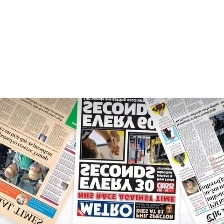news_paper: (78, 96, 179, 223), (141, 95, 224, 224), (0, 95, 78, 224)
